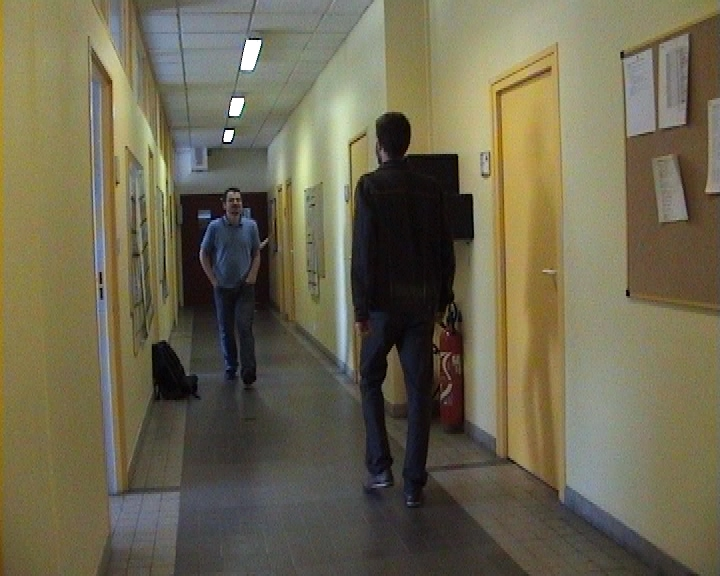leave bag unattended: (123, 295, 310, 448)
